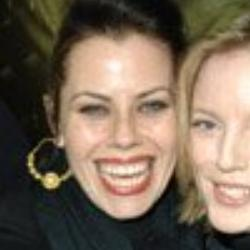face: (25, 7, 189, 221), (157, 14, 250, 234)
